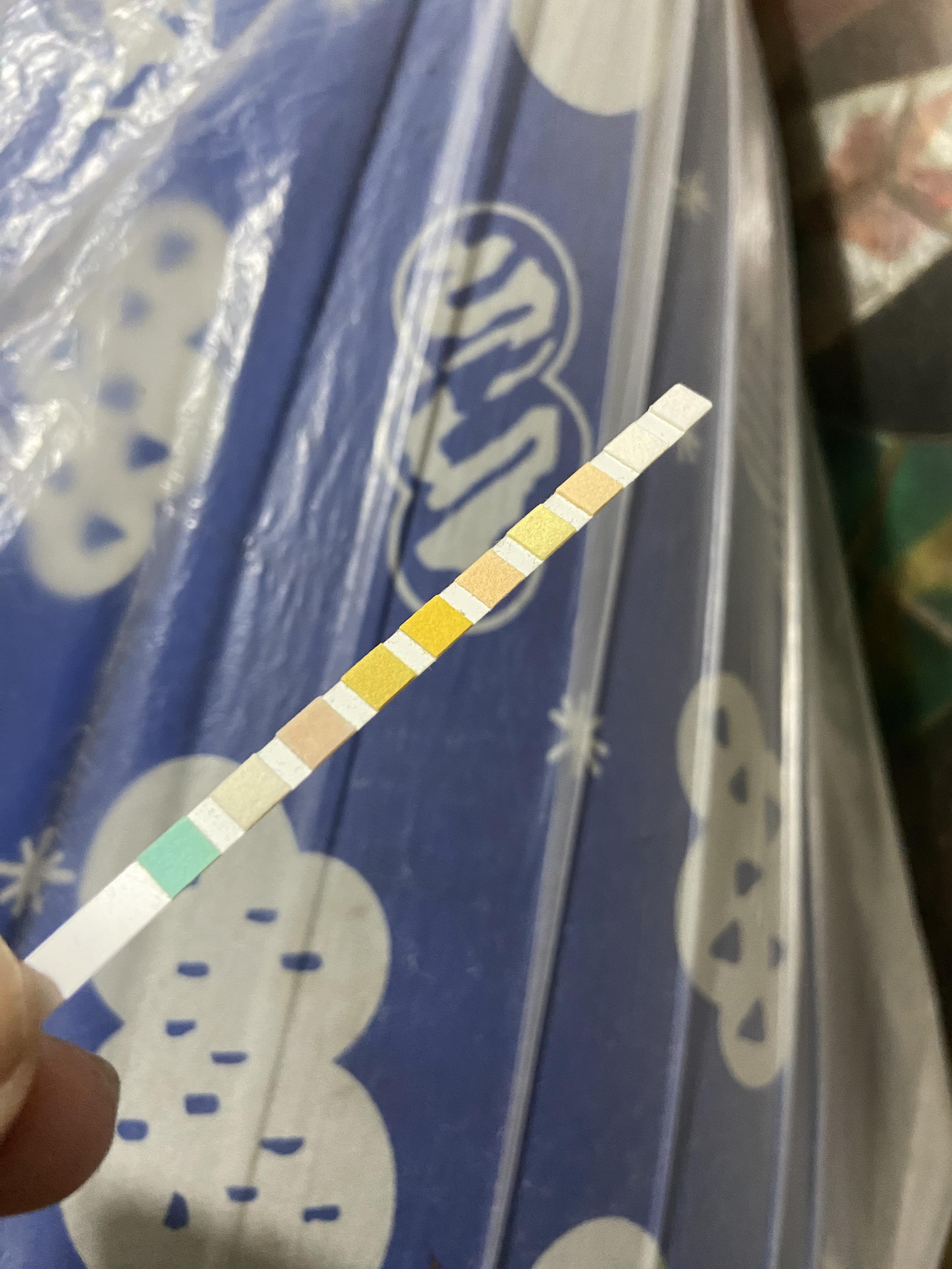Bilirubin: (229, 776, 268, 812)
Blood: (419, 610, 454, 641)
Glucose: (160, 840, 195, 875)
Ketone: (298, 717, 333, 753)
Leukocytes: (665, 395, 697, 418)
Nitrite: (619, 434, 652, 459)
Protein: (526, 518, 558, 547)
SpGravity: (361, 660, 398, 694)
Urobilinogen: (573, 474, 605, 503)
pH: (473, 564, 507, 595)
strip: (27, 382, 715, 1001)
